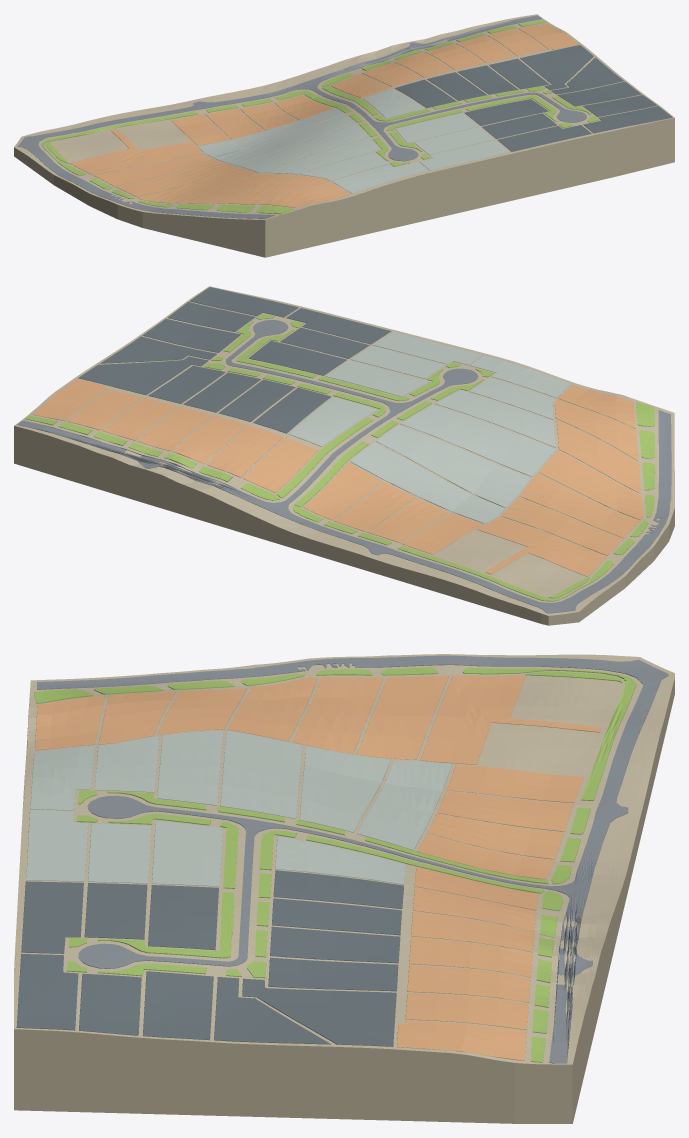
The model's file is beechford.glb.
3 views of the same model, one above another, from view 1: azimuth 30°, elevation 25°; view 2: azimuth 150°, elevation 25°; view 3: azimuth 270°, elevation 25° (orthographic). The views are drawn at different scales.
Visible parts, largest first — view 1: Terrain, Roads, Verges, Lot_12, Lot_21, Lot_33, Lot_20, Lot_19, Lot_13, Lot_14, Lot_22, Lot_15 (+31 smaller); view 2: Terrain, Verges, Roads, Lot_20, Lot_21, Lot_19, Lot_12, Lot_15, Lot_14, Lot_22, Lot_13, Lot_16 (+31 smaller); view 3: Terrain, Roads, Verges, Lot_12, Lot_33, Lot_21, Lot_20, Lot_19, Lot_13, Lot_14, Lot_35, Lot_22 (+31 smaller).
Part boxes in pixels (left/top/right/bottom): Terrain: left=14, top=14, right=674, bottom=257; Roads: left=18, top=15, right=586, bottom=218; Verges: left=41, top=20, right=599, bottom=214; Lot_12: left=69, top=129, right=202, bottom=175; Lot_21: left=239, top=123, right=368, bottom=173; Lot_33: left=520, top=45, right=593, bottom=90; Lot_20: left=213, top=115, right=355, bottom=165; Lot_19: left=198, top=108, right=345, bottom=157; Lot_13: left=94, top=154, right=220, bottom=186; Lot_14: left=116, top=162, right=239, bottom=196; Lot_22: left=262, top=137, right=379, bottom=174; Lot_15: left=137, top=168, right=257, bottom=203; Terrain: left=14, top=286, right=674, bottom=625; Verges: left=25, top=313, right=655, bottom=601; Roads: left=17, top=320, right=671, bottom=613; Lot_20: left=376, top=425, right=530, bottom=507; Lot_21: left=401, top=404, right=556, bottom=476; Lot_19: left=350, top=442, right=504, bottom=523; Lot_12: left=477, top=517, right=606, bottom=576; Lot_15: left=539, top=450, right=643, bottom=520; Lot_14: left=519, top=473, right=639, bottom=538; Lot_22: left=435, top=390, right=555, bottom=447; Lot_13: left=501, top=497, right=623, bottom=555; Lot_16: left=556, top=420, right=640, bottom=493; Terrain: left=14, top=654, right=674, bottom=1123; Roads: left=37, top=655, right=668, bottom=1063; Verges: left=34, top=667, right=636, bottom=1062; Lot_12: left=420, top=675, right=600, bottom=764; Lot_33: left=242, top=978, right=396, bottom=1046; Lot_21: left=220, top=730, right=302, bottom=818; Lot_20: left=299, top=746, right=390, bottom=832; Lot_19: left=357, top=760, right=452, bottom=850; Lot_13: left=357, top=675, right=448, bottom=759; Lot_14: left=292, top=677, right=382, bottom=753; Lot_35: left=143, top=971, right=213, bottom=1040; Lot_22: left=157, top=730, right=223, bottom=805.
Size of the model in its own units: 426 by 38.16 by 264.
